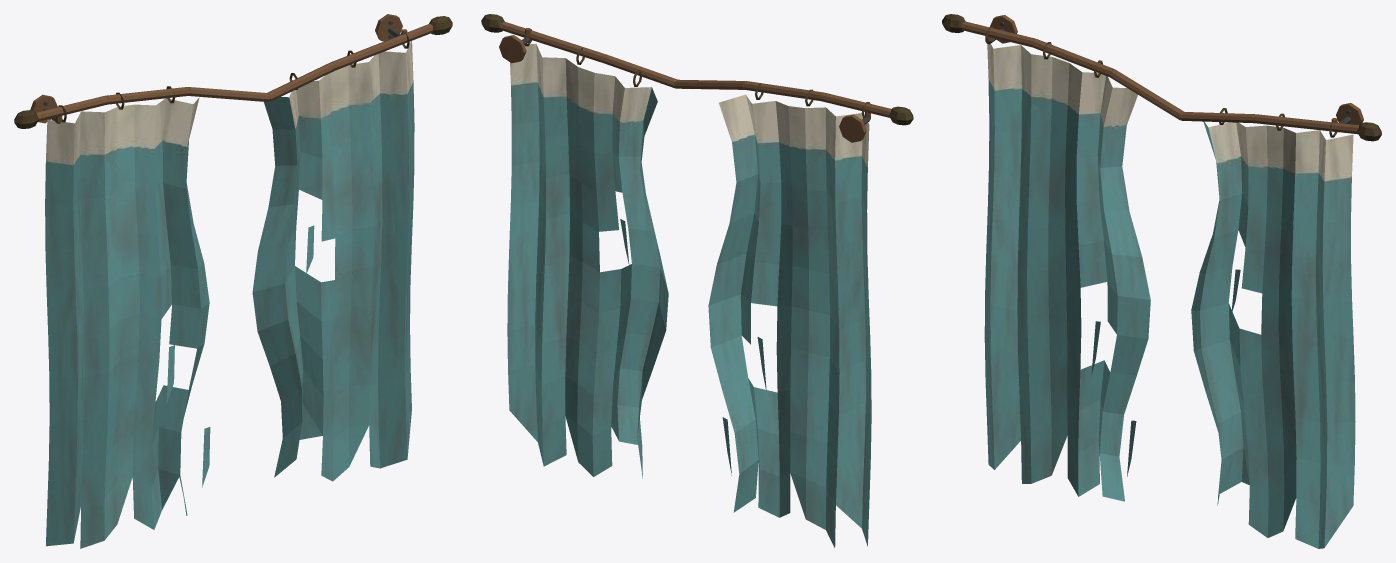
The model's file is BR37_torn_curtain_rod.glb.
The picture shows the model from 3 angles, left to right: view 1: azimuth 30°, elevation 25°; view 2: azimuth 150°, elevation 25°; view 3: azimuth 330°, elevation 25°; orthographic projection.
Parts seen in each view (by area): view 1: Bent tubular curtain rod; view 2: Bent tubular curtain rod; view 3: Bent tubular curtain rod.
Boxes of the visible parts, x1,y1,x2,y2 form: Bent tubular curtain rod: (14,14,452,548); Bent tubular curtain rod: (481,14,913,547); Bent tubular curtain rod: (942,14,1381,548).
Size of the model in its own units: 2 by 2 by 0.2108.
5 materials, 5 textured.
